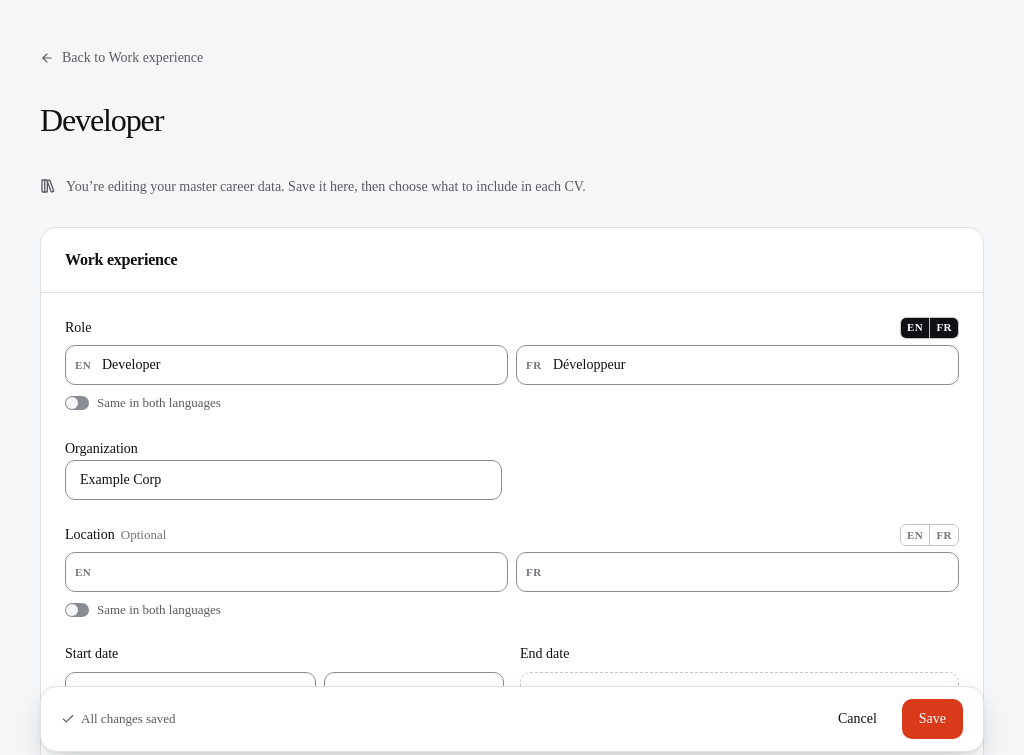
Test case: ExperienceForm › keeps edits and says why when the save fails
Type "!" into the field labelled "Organization" at point(284, 480), box [65, 460, 502, 500]
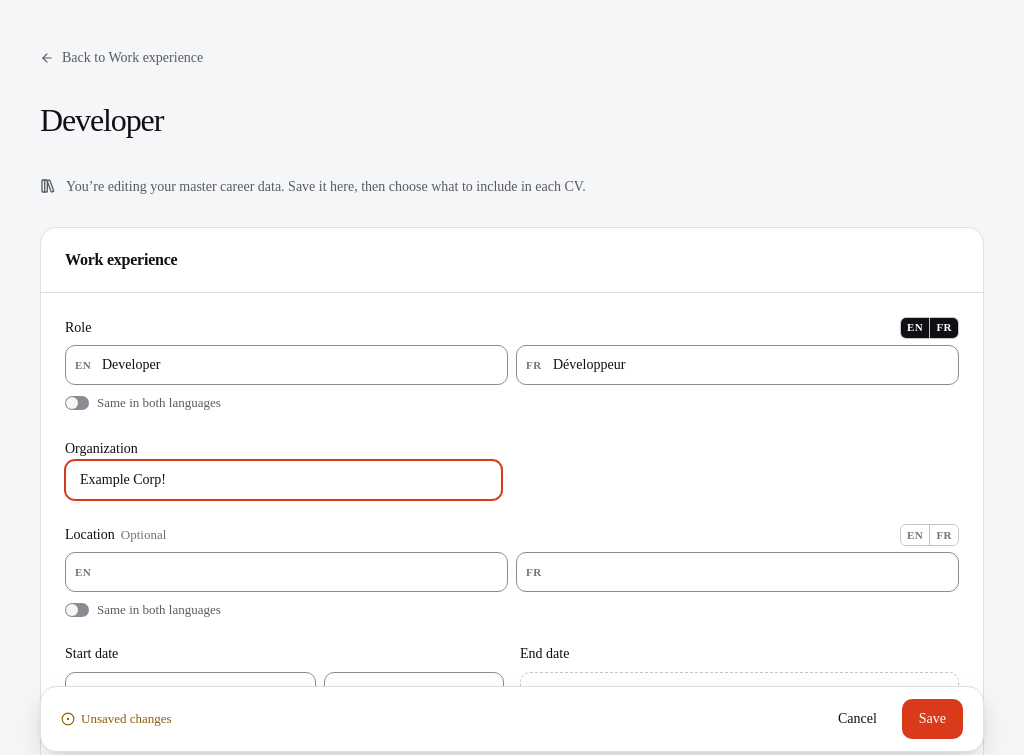
Click the button "Save" at point(932, 719), box [902, 699, 963, 739]
(page scrolled)
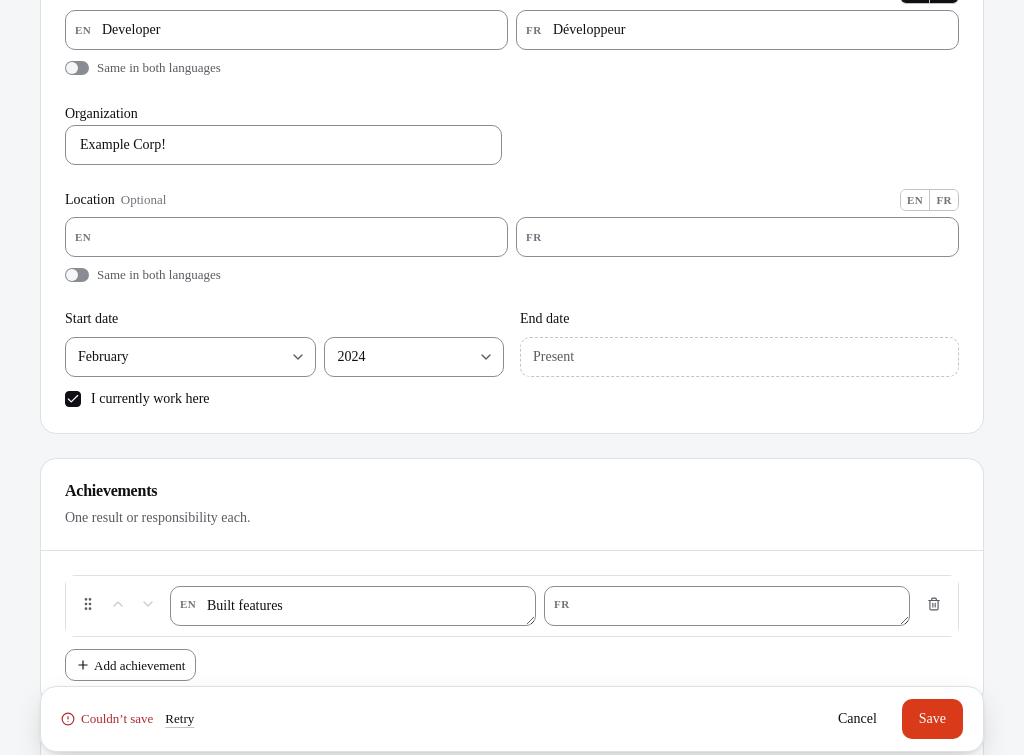
Expected: the field labelled "Organization" holds "Example Corp!", [65, 125, 502, 165]
Expected: the text "Couldn’t save" is shown, [81, 709, 153, 729]
